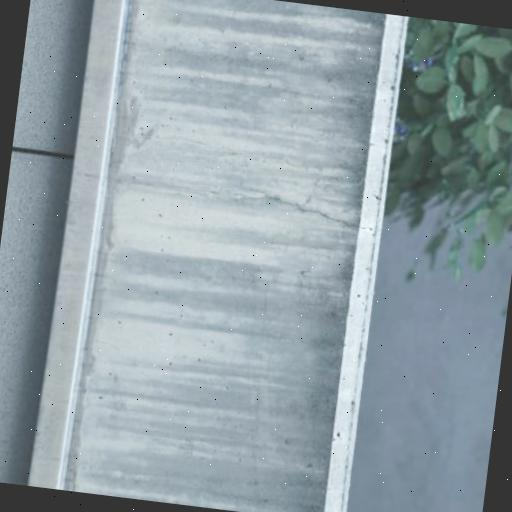spalling: (264, 190, 361, 236), (16, 139, 68, 164)
